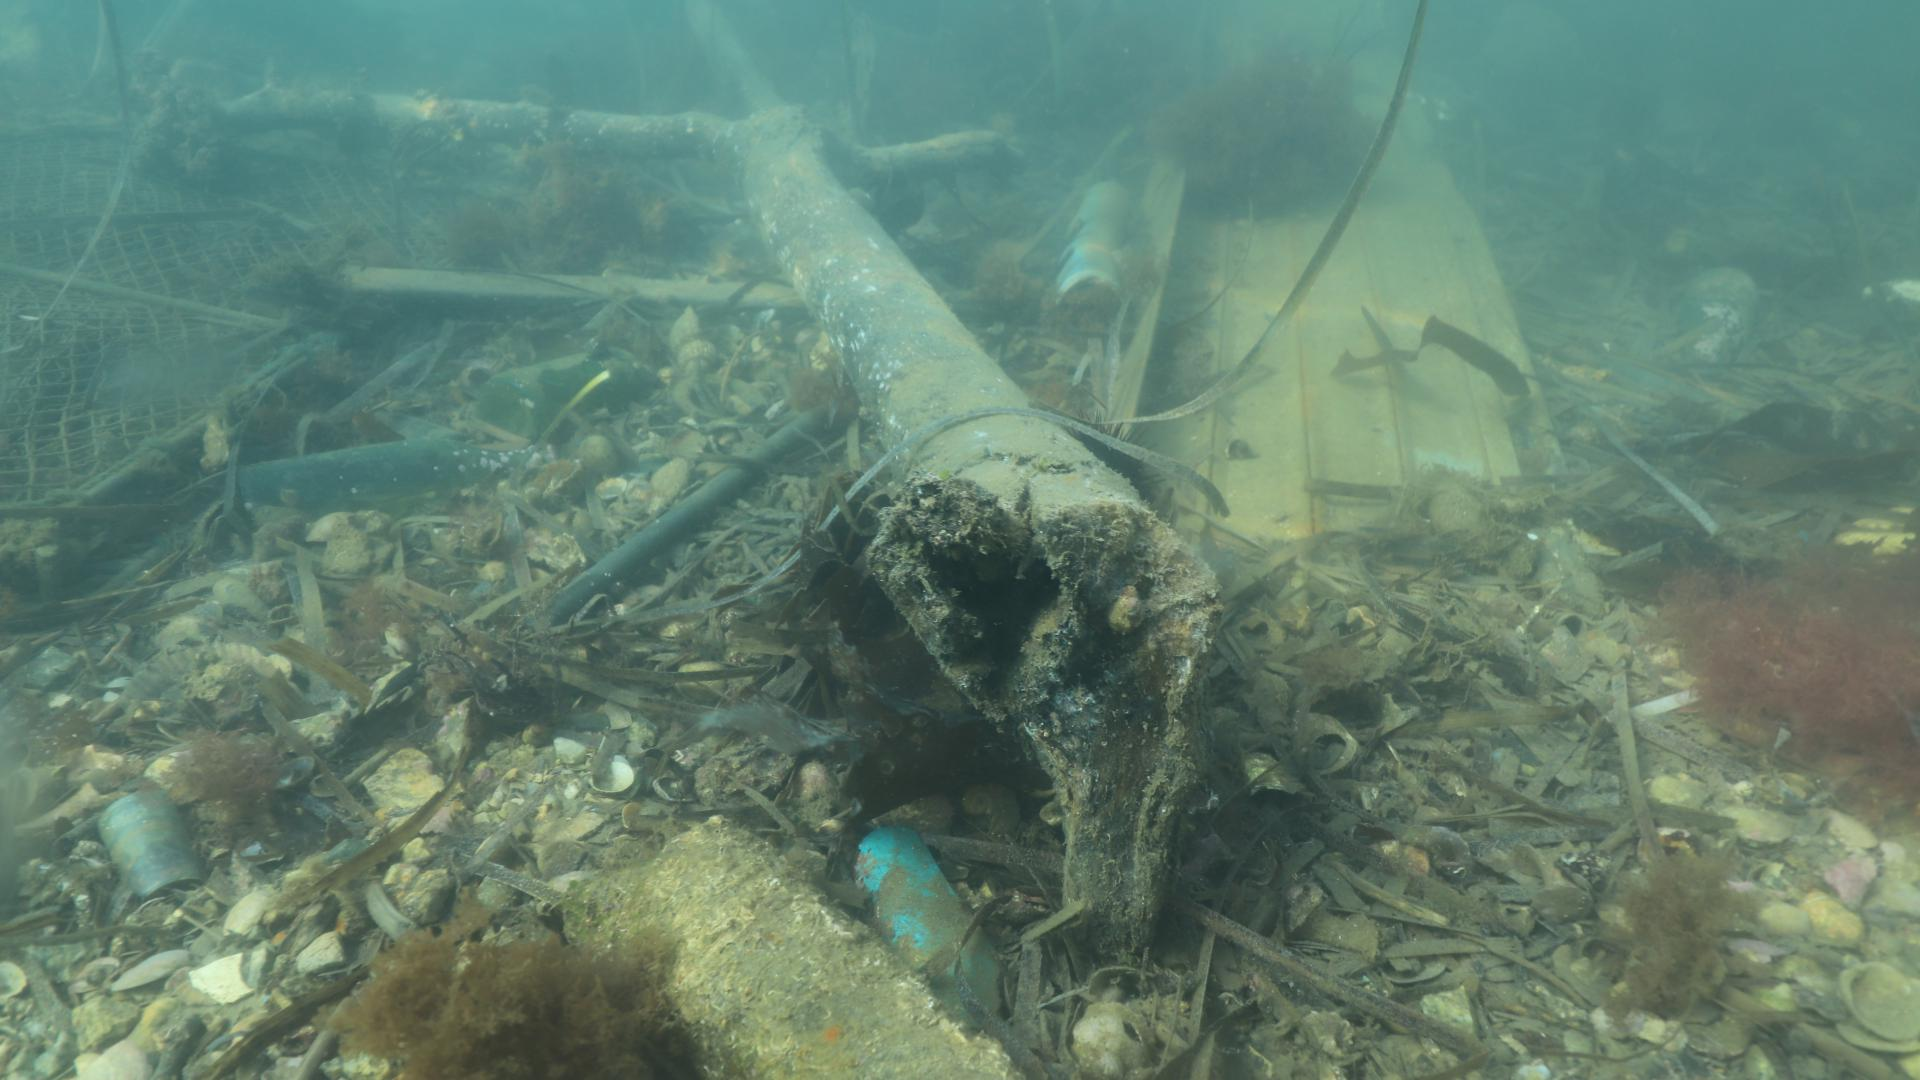wood: (200, 7, 1222, 957)
